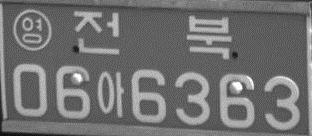0: (13, 62, 48, 118)
3: (262, 74, 301, 131), (174, 71, 210, 128)
6: (130, 67, 168, 124), (218, 72, 256, 128), (54, 64, 91, 119)
아: (96, 70, 125, 117)
영: (11, 7, 53, 52)
전북_D: (72, 9, 232, 60)
